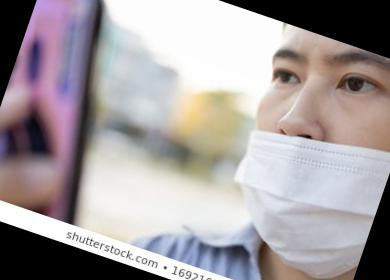mask_weared_incorrect: (215, 24, 390, 278)
